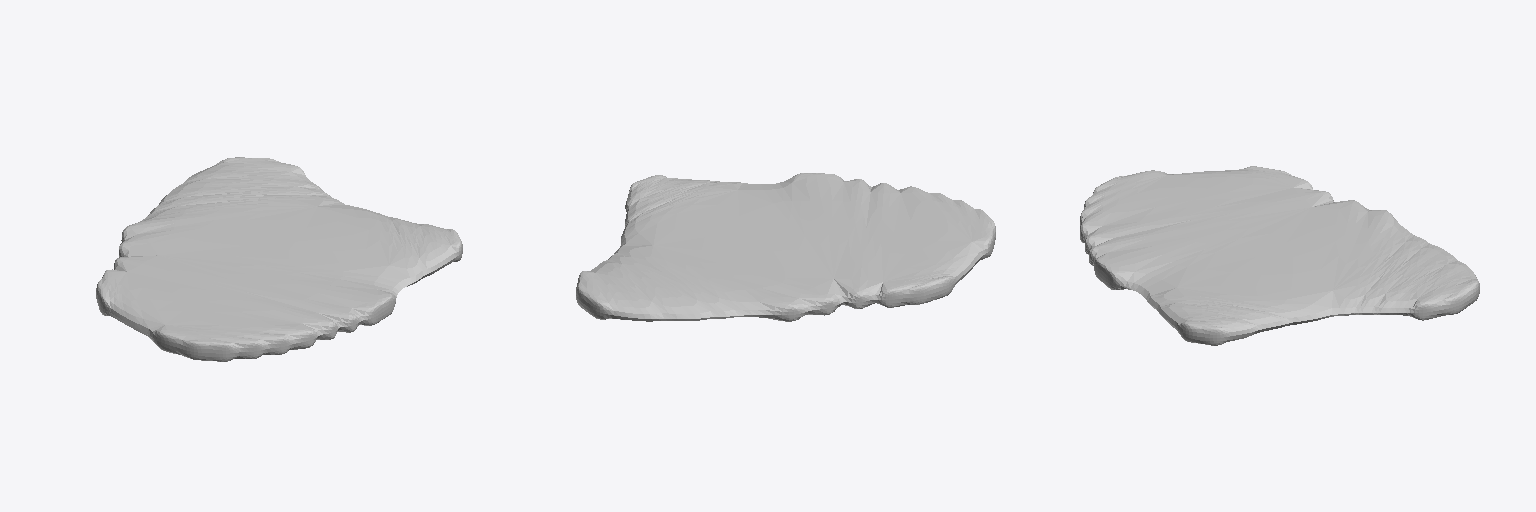
The model's file is PoisonSpillSmall.obj.
3 views of the same model, side by side, from view 1: azimuth 30°, elevation 25°; view 2: azimuth 150°, elevation 25°; view 3: azimuth 270°, elevation 25° (orthographic).
Visible parts, largest first — view 1: Circle.001; view 2: Circle.001; view 3: Circle.001.
Boxes of the visible parts, x1,y1,x2,y2 form: Circle.001: [96, 157, 462, 361]; Circle.001: [576, 173, 995, 321]; Circle.001: [1080, 166, 1479, 345].
Bounding box in the file's own units: 1.14 × 0.0622 × 1.17.